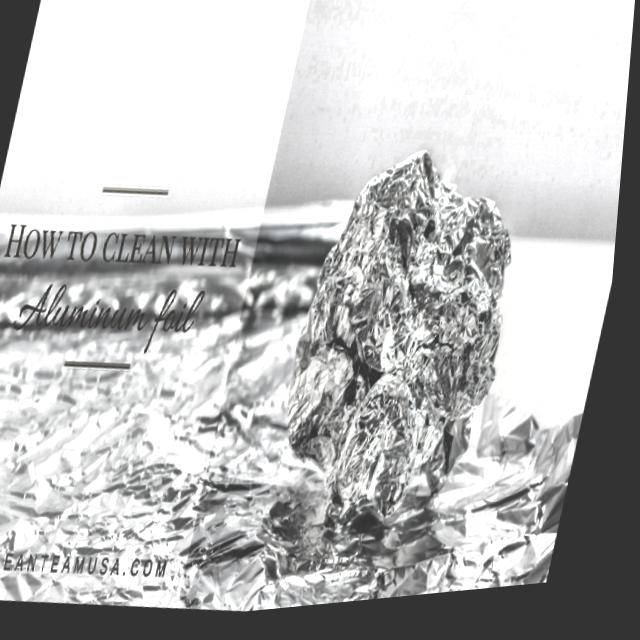Foil: (256, 125, 554, 578)
